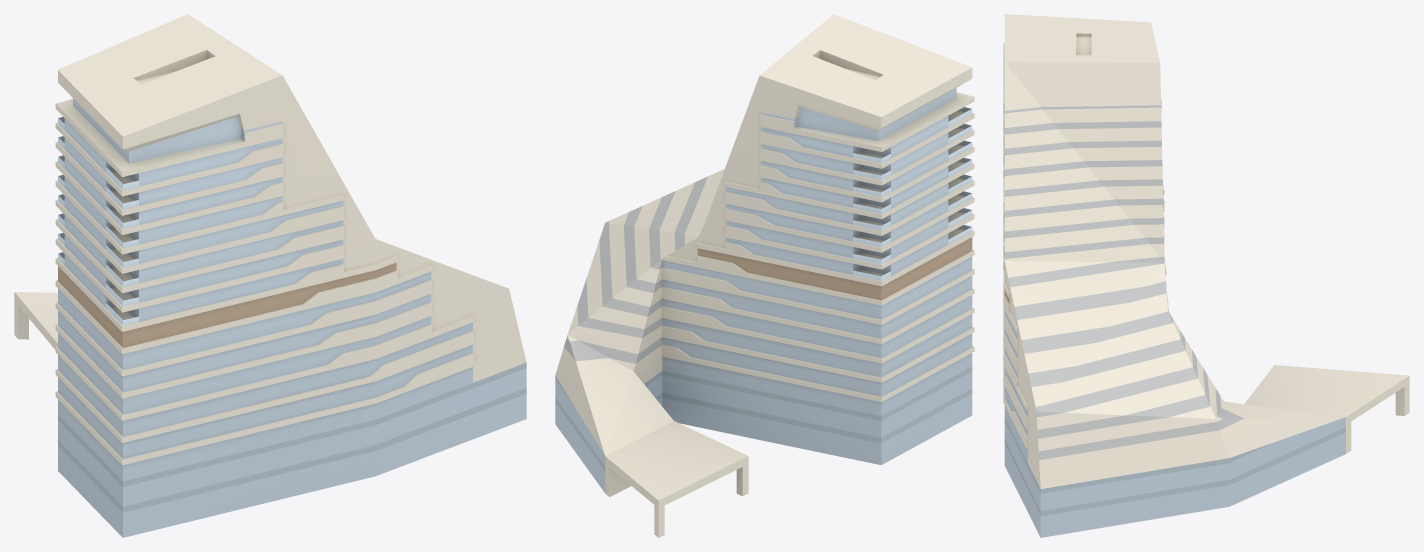
3 renders of one model, left to right at view 1: azimuth 30°, elevation 25°; view 2: azimuth 150°, elevation 25°; view 3: azimuth 270°, elevation 25°, orthographic. The views are drawn at different scales.
Visible parts, largest first — view 1: 70030076431368431; view 2: 70030076431368431; view 3: 70030076431368431.
Boxes of the visible parts, box(x1,y1,x2,y2) form: 70030076431368431: box(14, 14, 526, 537); 70030076431368431: box(555, 14, 974, 537); 70030076431368431: box(1003, 14, 1409, 537).
Bounding box in the file's own units: 85.96 × 81.67 × 82.44.
Materials: 1 (1 with a texture image).
